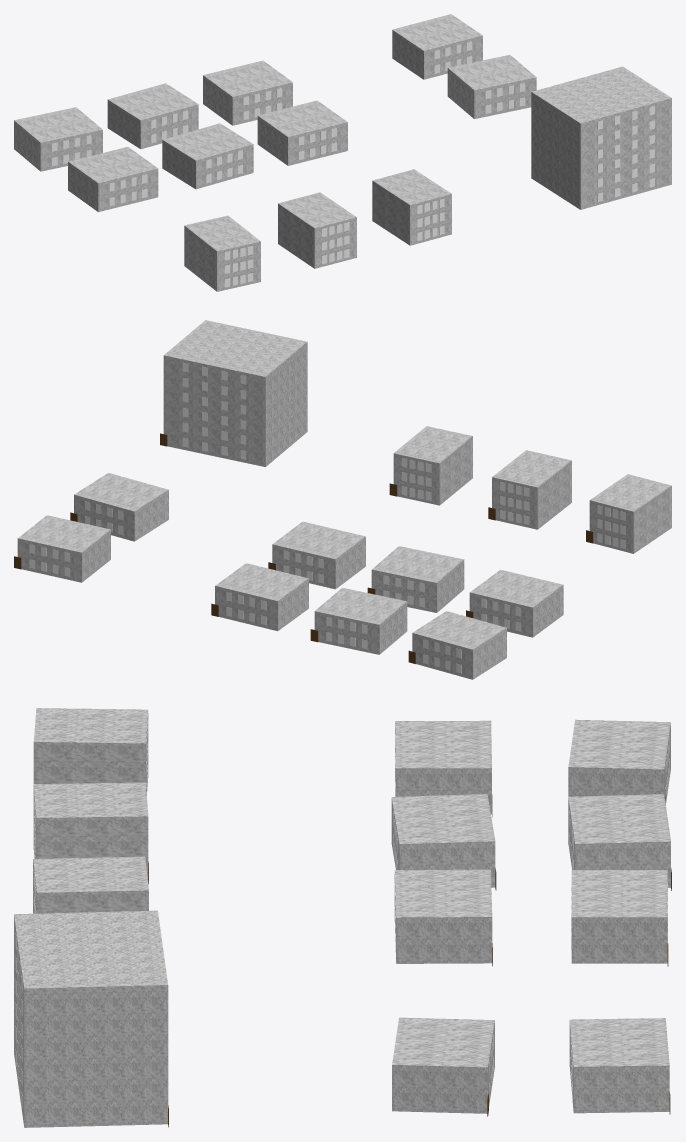
File: bld_mlmps03y_6ppqat9.glb
The picture shows the model from 3 angles, top to bottom: view 1: azimuth 30°, elevation 25°; view 2: azimuth 150°, elevation 25°; view 3: azimuth 270°, elevation 25°; orthographic projection. The views are drawn at different scales.
Parts seen in each view (by area): view 1: building-building-1771097589788-19, building-building-1771097589788-17, building-building-1771097589788-16, building-building-1771097589788-15, building-building-1771097589788-6, building-building-1771097589788-5, building-building-1771097589788-7, building-building-1771097589788-1, building-building-1771097589788-9, building-building-1771097589788-4, building-building-1771097589788-2, building-building-1771097589788-0; view 2: building-building-1771097589788-19, building-building-1771097589788-15, building-building-1771097589788-17, building-building-1771097589788-16, building-building-1771097589788-0, building-building-1771097589788-2, building-building-1771097589788-4, building-building-1771097589788-1, building-building-1771097589788-9, building-building-1771097589788-5, building-building-1771097589788-7, building-building-1771097589788-6; view 3: building-building-1771097589788-19, building-building-1771097589788-9, building-building-1771097589788-4, building-building-1771097589788-7, building-building-1771097589788-2, building-building-1771097589788-16, building-building-1771097589788-15, building-building-1771097589788-6, building-building-1771097589788-1, building-building-1771097589788-0, building-building-1771097589788-5, building-building-1771097589788-17.
Boxes of the visible parts, x1,y1,x2,y2 form: building-building-1771097589788-19: (531,66,671,209); building-building-1771097589788-17: (372,169,451,245); building-building-1771097589788-16: (278,192,356,268); building-building-1771097589788-15: (184,215,260,291); building-building-1771097589788-6: (162,123,253,189); building-building-1771097589788-5: (68,147,158,212); building-building-1771097589788-7: (257,100,347,165); building-building-1771097589788-1: (107,83,198,149); building-building-1771097589788-9: (447,55,536,119); building-building-1771097589788-4: (392,14,482,79); building-building-1771097589788-2: (203,60,292,125); building-building-1771097589788-0: (14,107,102,171); building-building-1771097589788-19: (160,320,307,466); building-building-1771097589788-15: (586,474,671,553); building-building-1771097589788-17: (389,426,472,505); building-building-1771097589788-16: (488,450,571,529); building-building-1771097589788-0: (408,611,506,679); building-building-1771097589788-2: (211,563,308,631); building-building-1771097589788-4: (14,515,110,582); building-building-1771097589788-1: (310,587,407,654); building-building-1771097589788-9: (70,473,168,541); building-building-1771097589788-5: (466,569,563,637); building-building-1771097589788-7: (268,521,365,589); building-building-1771097589788-6: (367,546,464,612); building-building-1771097589788-19: (14,910,168,1127); building-building-1771097589788-9: (392,1017,494,1116); building-building-1771097589788-4: (569,1018,670,1114); building-building-1771097589788-7: (394,869,492,966); building-building-1771097589788-2: (571,870,668,966); building-building-1771097589788-16: (33,782,148,884); building-building-1771097589788-15: (33,708,148,795); building-building-1771097589788-6: (391,794,496,890); building-building-1771097589788-1: (568,794,671,890); building-building-1771097589788-0: (568,719,670,804); building-building-1771097589788-5: (395,720,492,817); building-building-1771097589788-17: (33,856,148,913).
Size of the model in its own units: 107 by 19.23 by 82.15.
60 materials, 12 textured.
